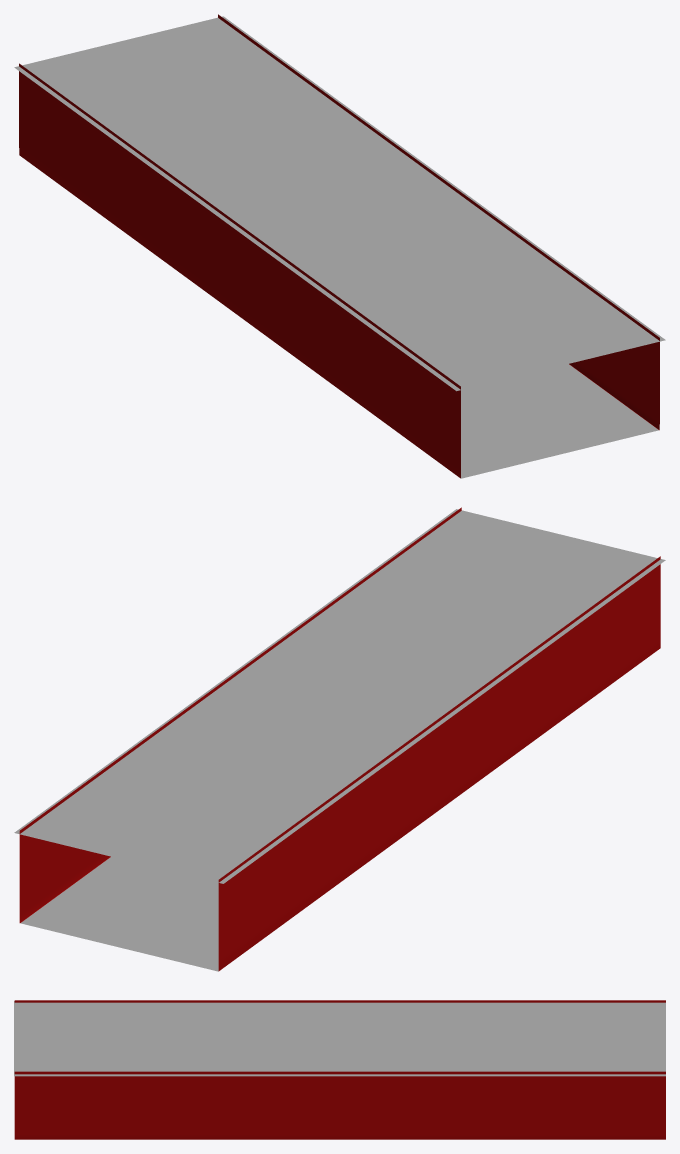
File: Bibliothèque_9L_E+_Es_O++.fbx
The picture shows the model from 3 angles, top to bottom: view 1: azimuth 30°, elevation 25°; view 2: azimuth 150°, elevation 25°; view 3: azimuth 270°, elevation 25°; orthographic projection. The views are drawn at different scales.
Visible parts, largest first — view 1: pCube6; view 2: pCube6; view 3: pCube6.
Boxes of the visible parts, x1,y1,x2,y2 form: pCube6: (14,14,665,478); pCube6: (14,507,665,971); pCube6: (14,1000,665,1139).
Bounding box in the file's own units: 57.32 × 24.17 × 210.
